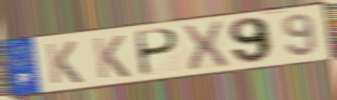9: (229, 16, 277, 66), (281, 12, 318, 58)
K: (43, 40, 85, 86), (91, 34, 132, 81)
P: (136, 27, 181, 78)
X: (179, 19, 231, 74)
